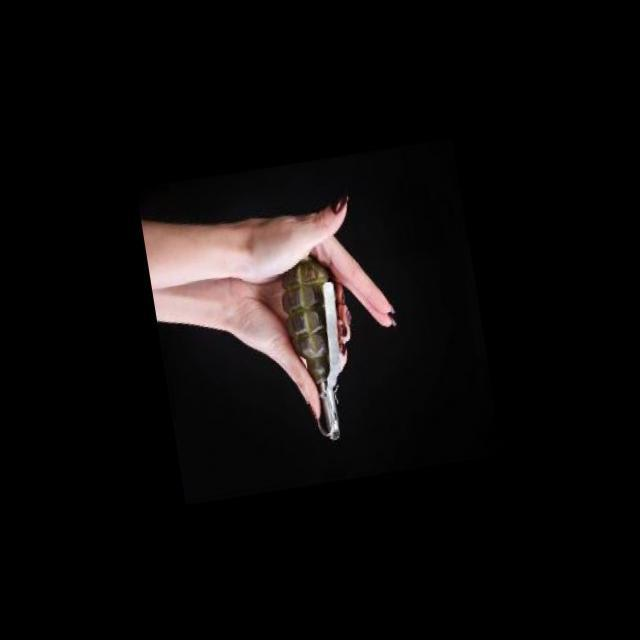grenade: (271, 250, 378, 447)
